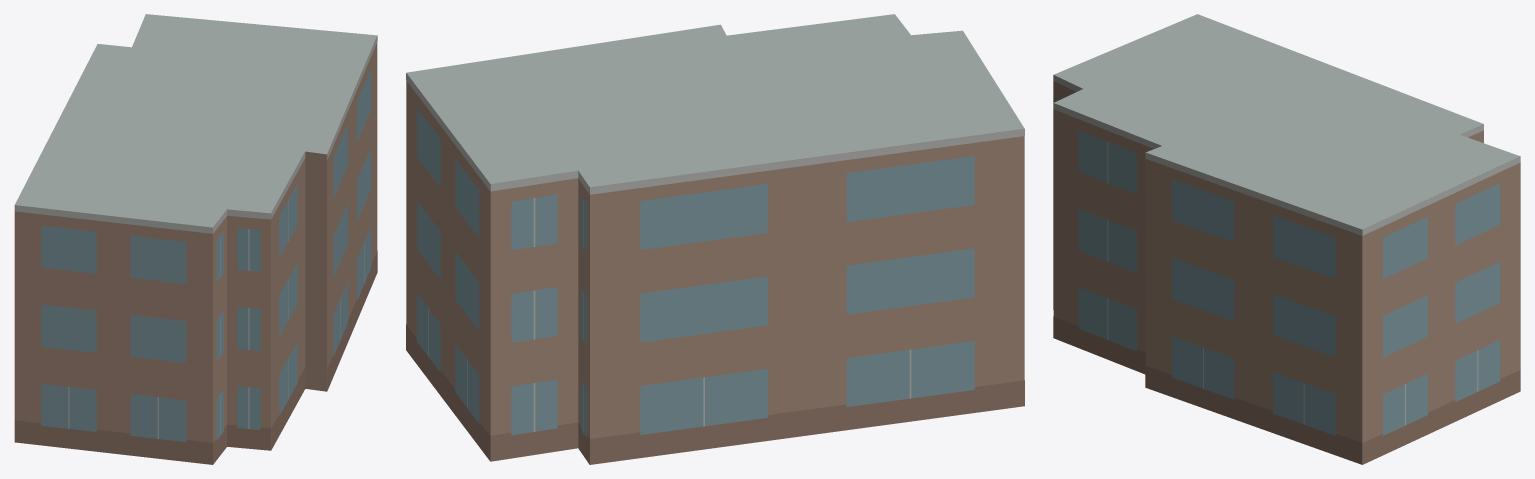
The model's file is survey-upis-32667385.glb.
The picture shows the model from 3 angles, left to right: view 1: azimuth 30°, elevation 25°; view 2: azimuth 150°, elevation 25°; view 3: azimuth 270°, elevation 25°; orthographic projection. The views are drawn at different scales.
Visible parts, largest first — view 1: survey-upis-32667385.tmp; view 2: survey-upis-32667385.tmp; view 3: survey-upis-32667385.tmp.
Boxes of the visible parts, x1=… form: survey-upis-32667385.tmp: x1=14, y1=14, x2=377, y2=464; survey-upis-32667385.tmp: x1=406, y1=14, x2=1024, y2=464; survey-upis-32667385.tmp: x1=1053, y1=14, x2=1520, y2=464.
Bounding box in the file's own units: 18 × 9.15 × 16.47.
